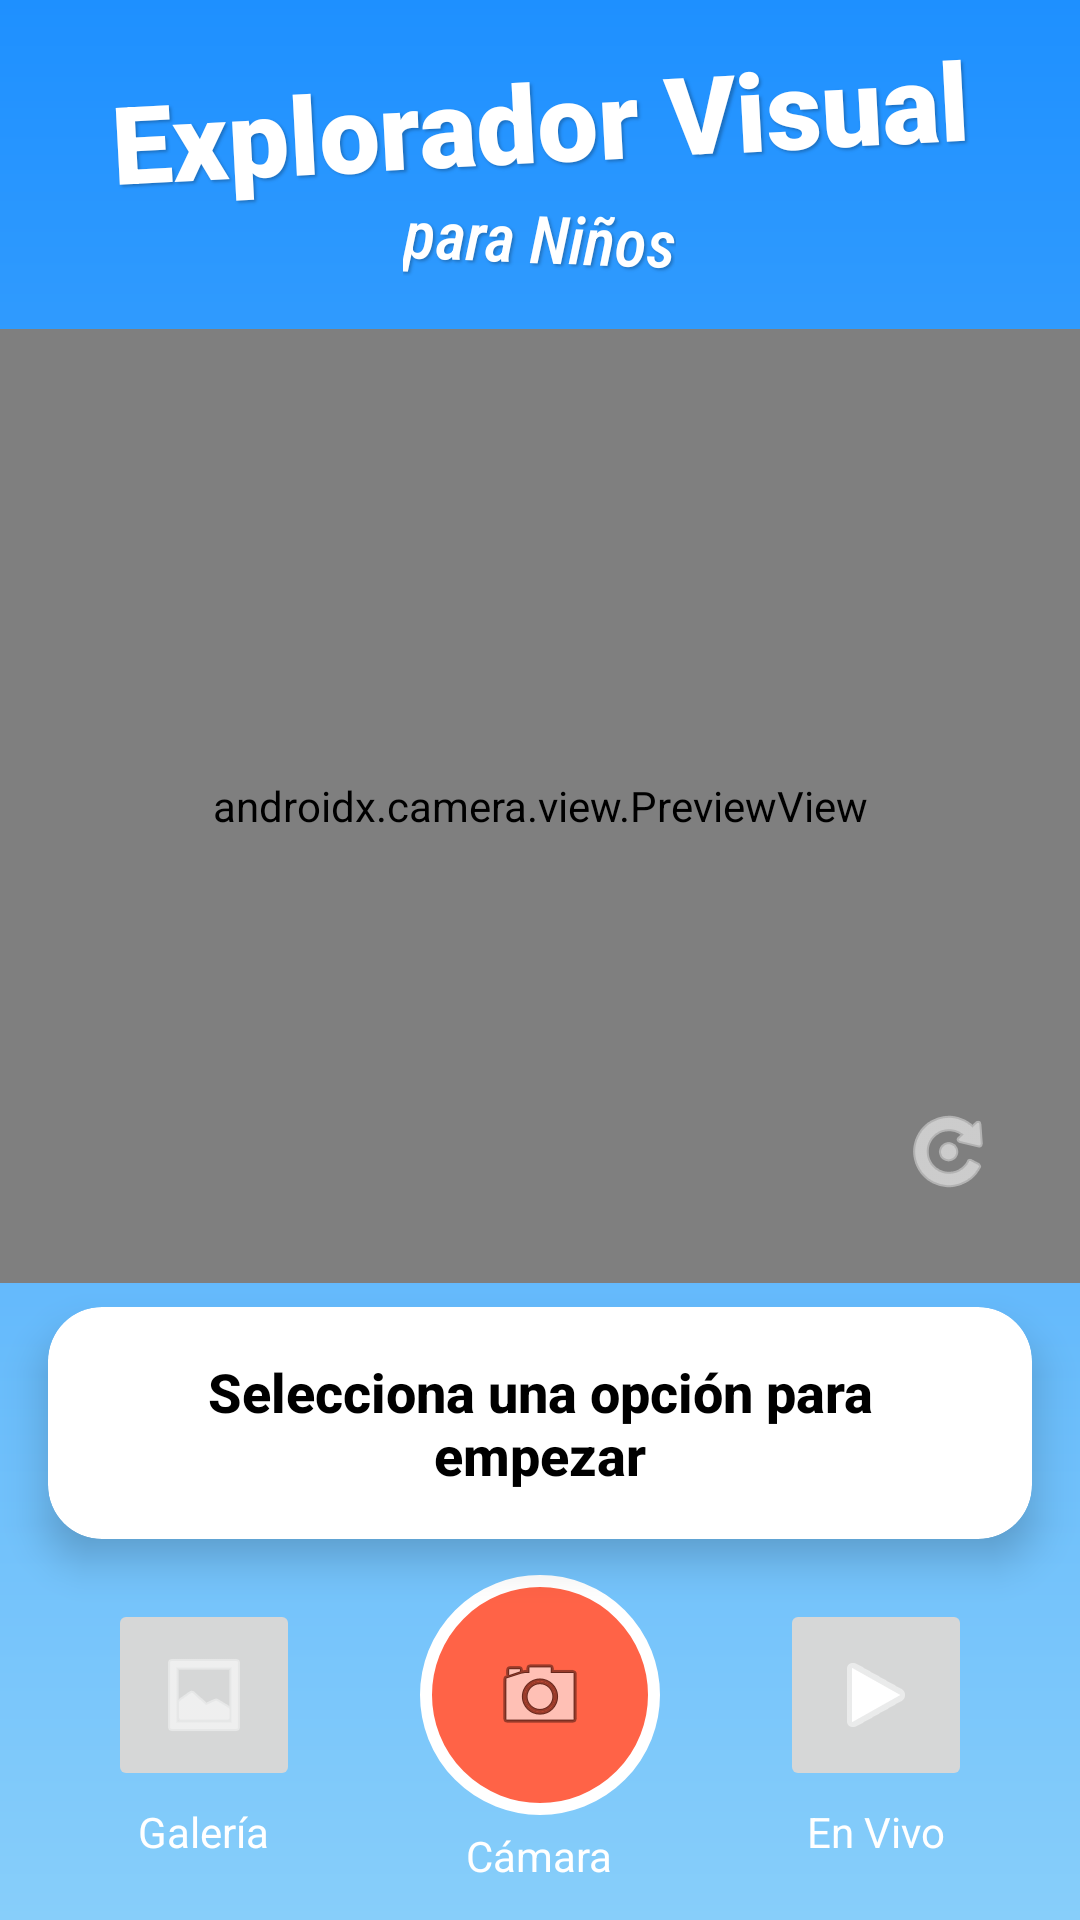

Where icons sit on this 1080 x 1920 app screen, as region(x1, y1, x2, y2):
Cambiar cámara: region(913, 1116, 983, 1187)
Tomar Foto: region(420, 1575, 660, 1815)
